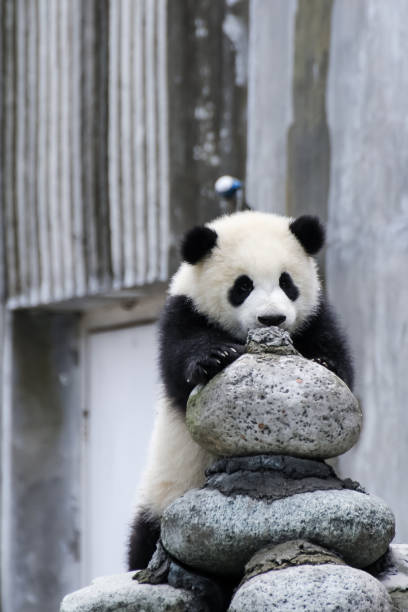panda: (152, 182, 366, 364)
